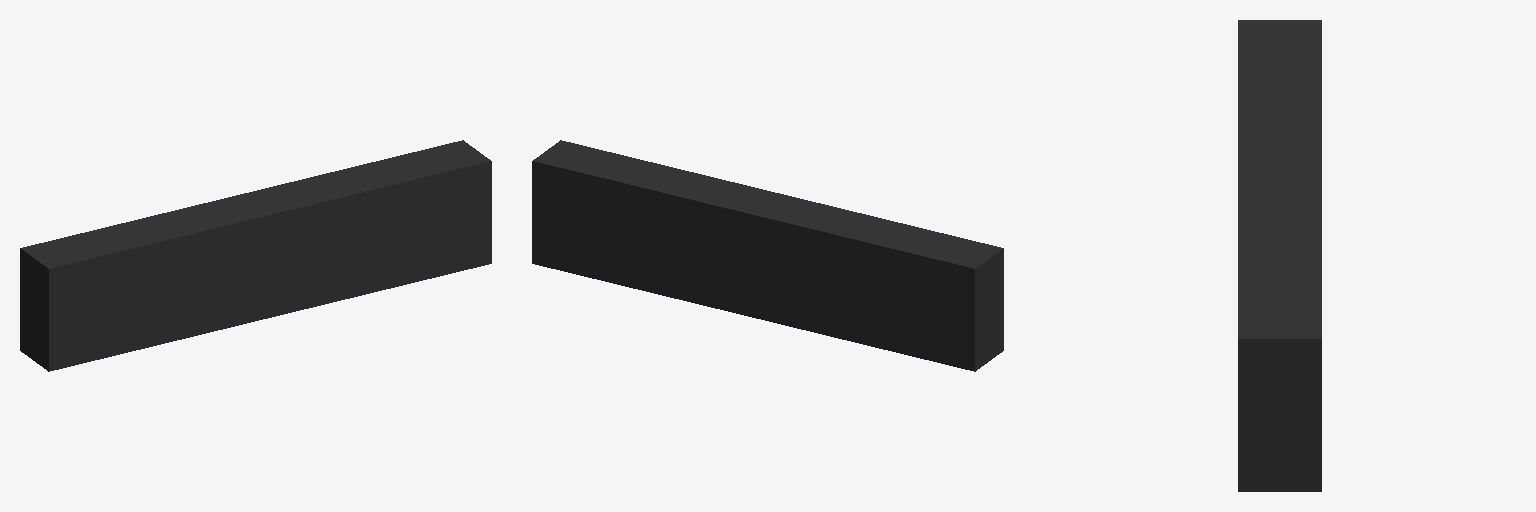
URDF robot description (wall):
<robot name="wall">
  <link name="baseLink">
   
    <inertial>
      <origin rpy="0 0 0" xyz="0 0 0" />
       <mass value="1000.0" />
       <inertia ixx="0" ixy="0" ixz="0" iyy="0" iyz="0" izz="0" />
    </inertial>
    <visual>
      <origin rpy="0 0 0" xyz="0 0 0" />
      <geometry>
			  <box size="9 1 2" />
      </geometry>
       <material name="grey">
        <color rgba="0.24 0.24 0.24 1" />
      </material>
    </visual>
    <collision>
      <origin rpy="0 0 0" xyz="0 0 0" />
      <geometry>
	 	      <box size="9 1 2" />
      </geometry>
    </collision>
  </link>
</robot>

--- Facts derived from the render (not from the file) ---
The picture shows the robot from 3 angles, left to right: view 1: azimuth 30°, elevation 25°; view 2: azimuth 150°, elevation 25°; view 3: azimuth 270°, elevation 25°; orthographic projection.
Model wall with 1 links and 0 joints (none), rooted at baseLink, posed every joint at zero.
Visible links, largest first — view 1: baseLink; view 2: baseLink; view 3: baseLink.
Link boxes in pixels (left/top/right/bottom): baseLink: left=20, top=140, right=491, bottom=371; baseLink: left=532, top=140, right=1003, bottom=371; baseLink: left=1238, top=20, right=1321, bottom=491.
Size in the robot's own frame: 9 by 1 by 2 metres.
Geometry: primitives only (box / cylinder / sphere), no mesh files.